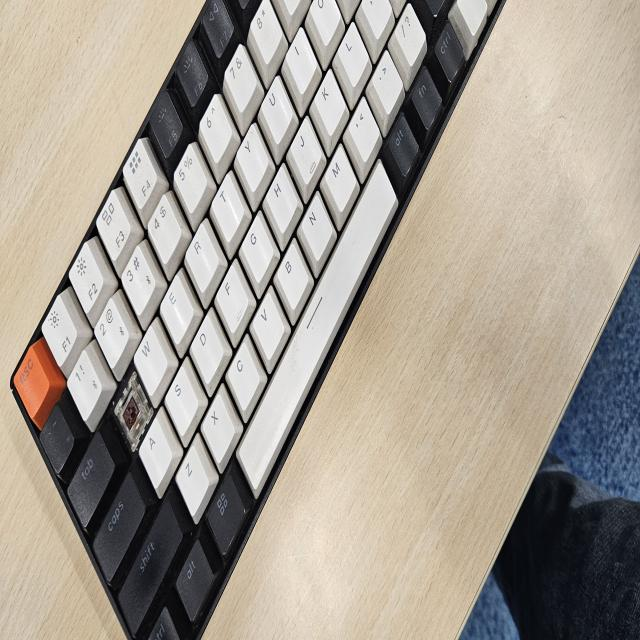C: (114, 386, 145, 443)
